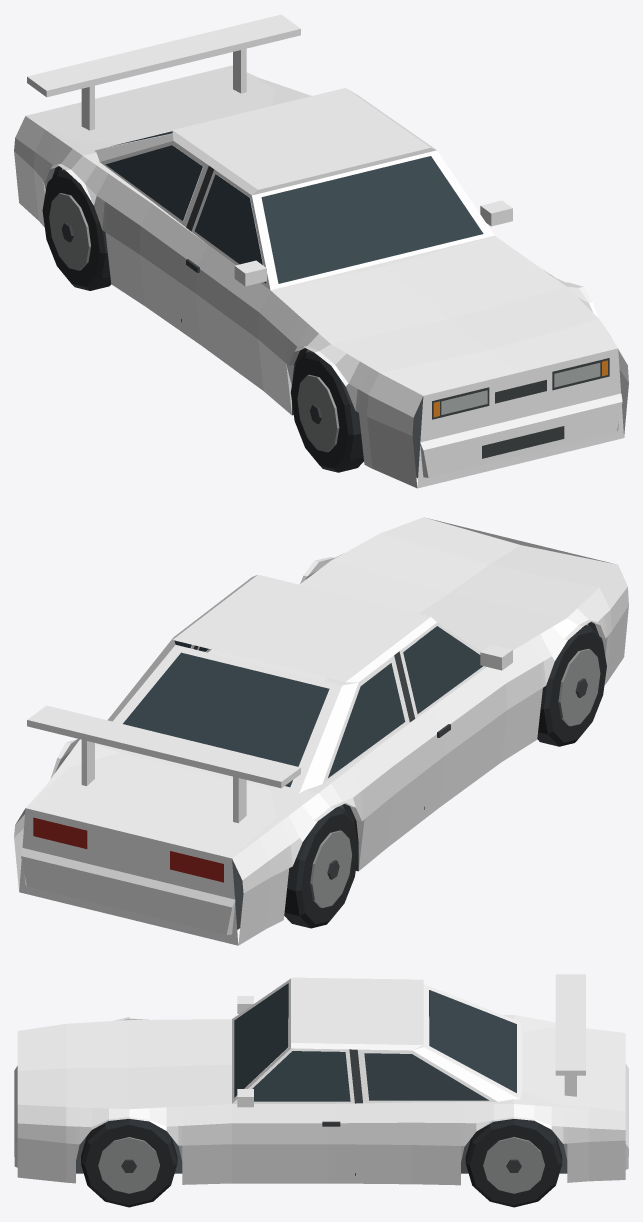
File: hayase_minamo_corrida.glb
3 views of the same model, one above another, from view 1: azimuth 30°, elevation 25°; view 2: azimuth 150°, elevation 25°; view 3: azimuth 270°, elevation 25° (orthographic). The views are drawn at different scales.
Parts seen in each view (by area): view 1: hayase_minamo_corrida; view 2: hayase_minamo_corrida; view 3: hayase_minamo_corrida.
Part boxes in pixels (x1,y1,x2,y2): hayase_minamo_corrida: (14,14,628,488); hayase_minamo_corrida: (14,517,628,945); hayase_minamo_corrida: (14,974,628,1207).
Size of the model in its own units: 1.74 by 1.19 by 4.44.
8 materials, 1 textured.
